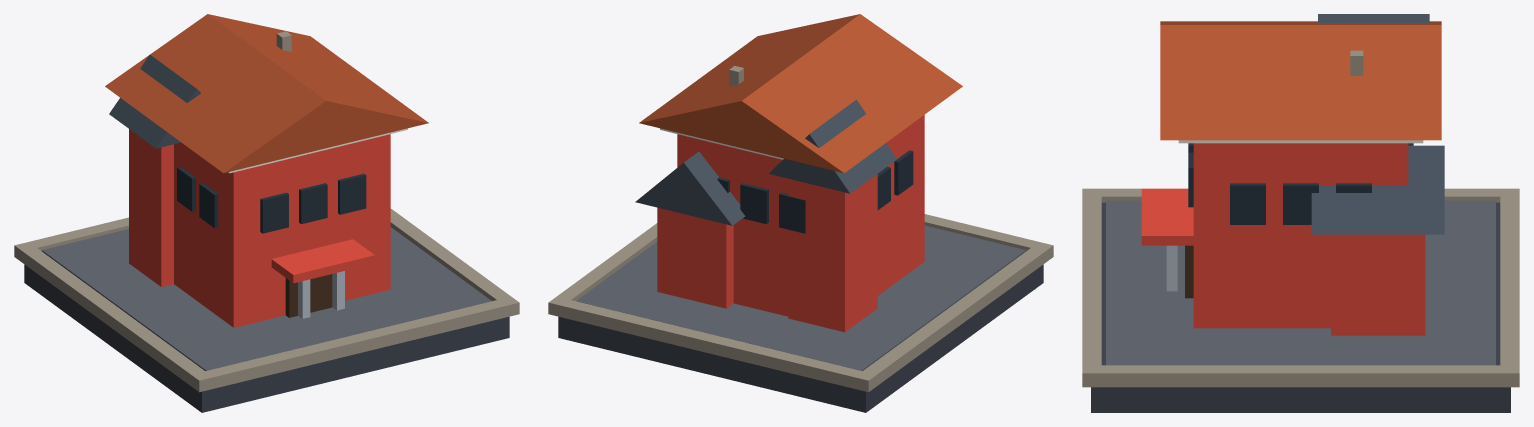
Rendered from city.house_3.glb.
The picture shows the model from 3 angles, left to right: view 1: azimuth 30°, elevation 25°; view 2: azimuth 150°, elevation 25°; view 3: azimuth 270°, elevation 25°; orthographic projection. The views are drawn at different scales.
Parts seen in each view (by area): view 1: city.house_3; view 2: city.house_3; view 3: city.house_3.
Part boxes in pixels (x1,y1,x2,y2): city.house_3: (14, 14, 519, 412); city.house_3: (548, 14, 1053, 412); city.house_3: (1082, 14, 1519, 412).
Size of the model in its own units: 2.02 by 1.52 by 2.02.
